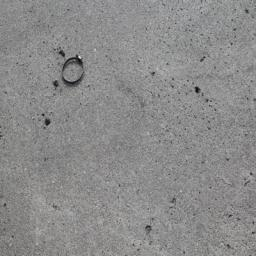FOD: (53, 54, 101, 88)
